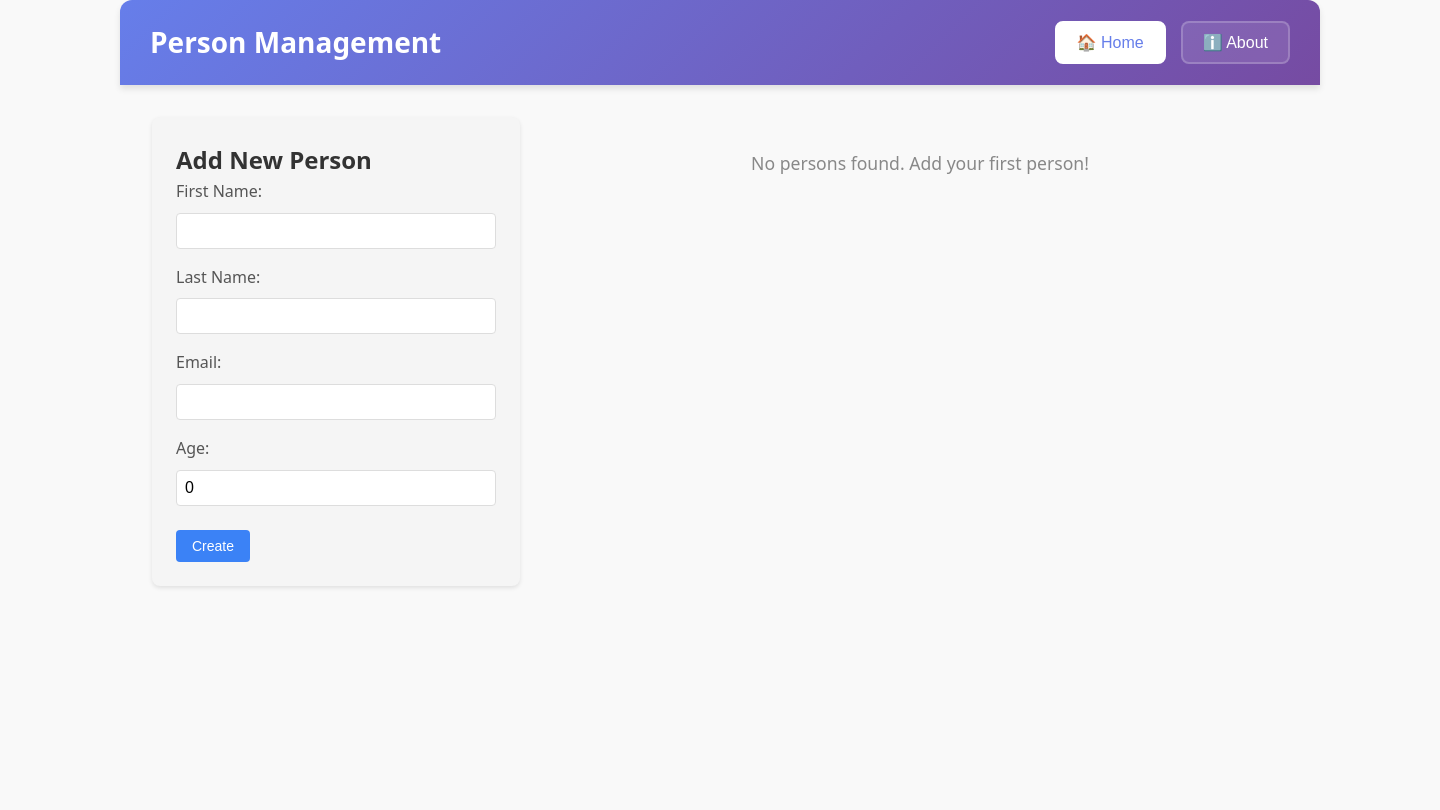
Test case: App › create person › should show error message when creation fails
This screenshot has width=1440, height=810.
Step 1. Type "John" into the field labelled "First Name:" → (336, 231), box [176,213,496,249]
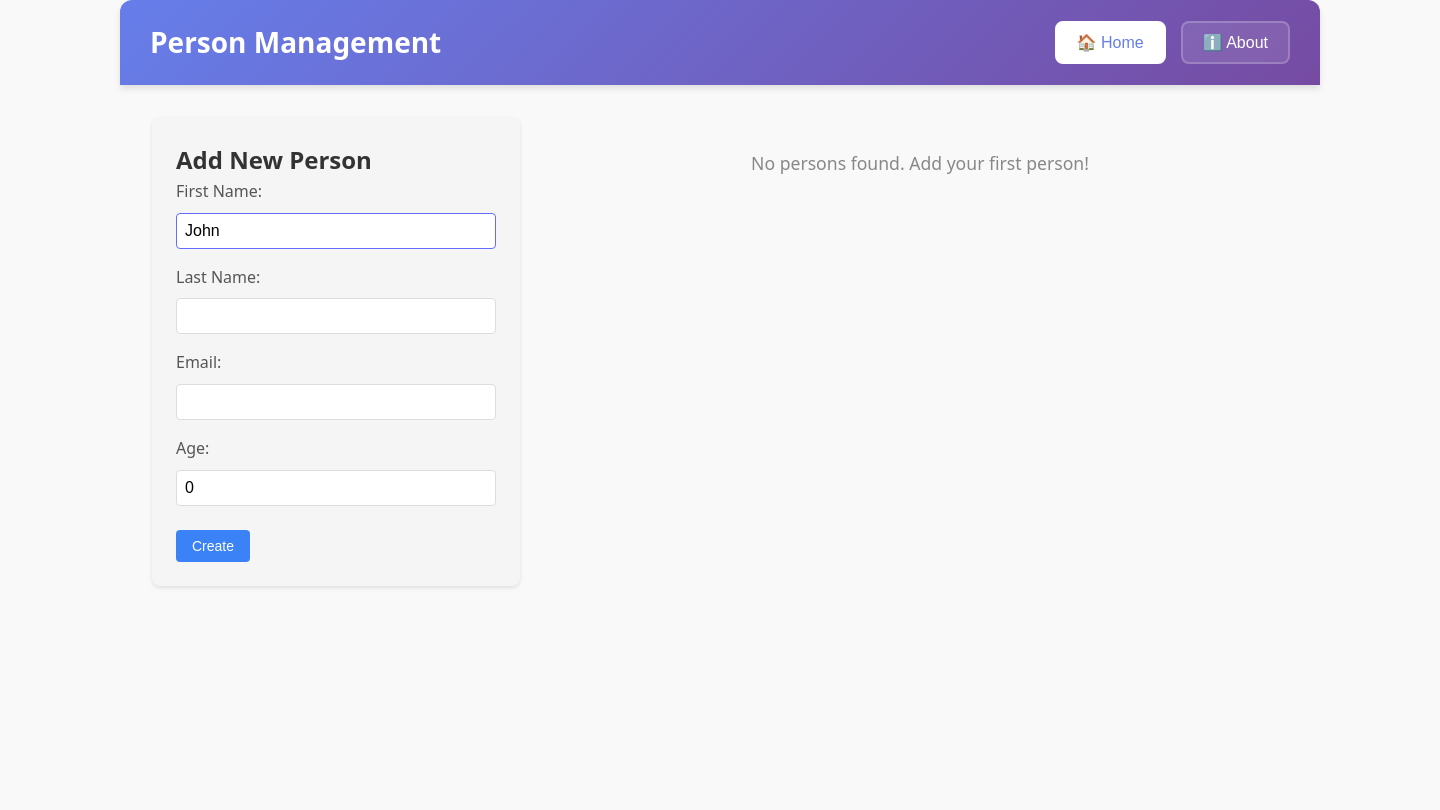
Step 2. Type "Doe" into the field labelled "Last Name:" → (336, 316), box [176,298,496,334]
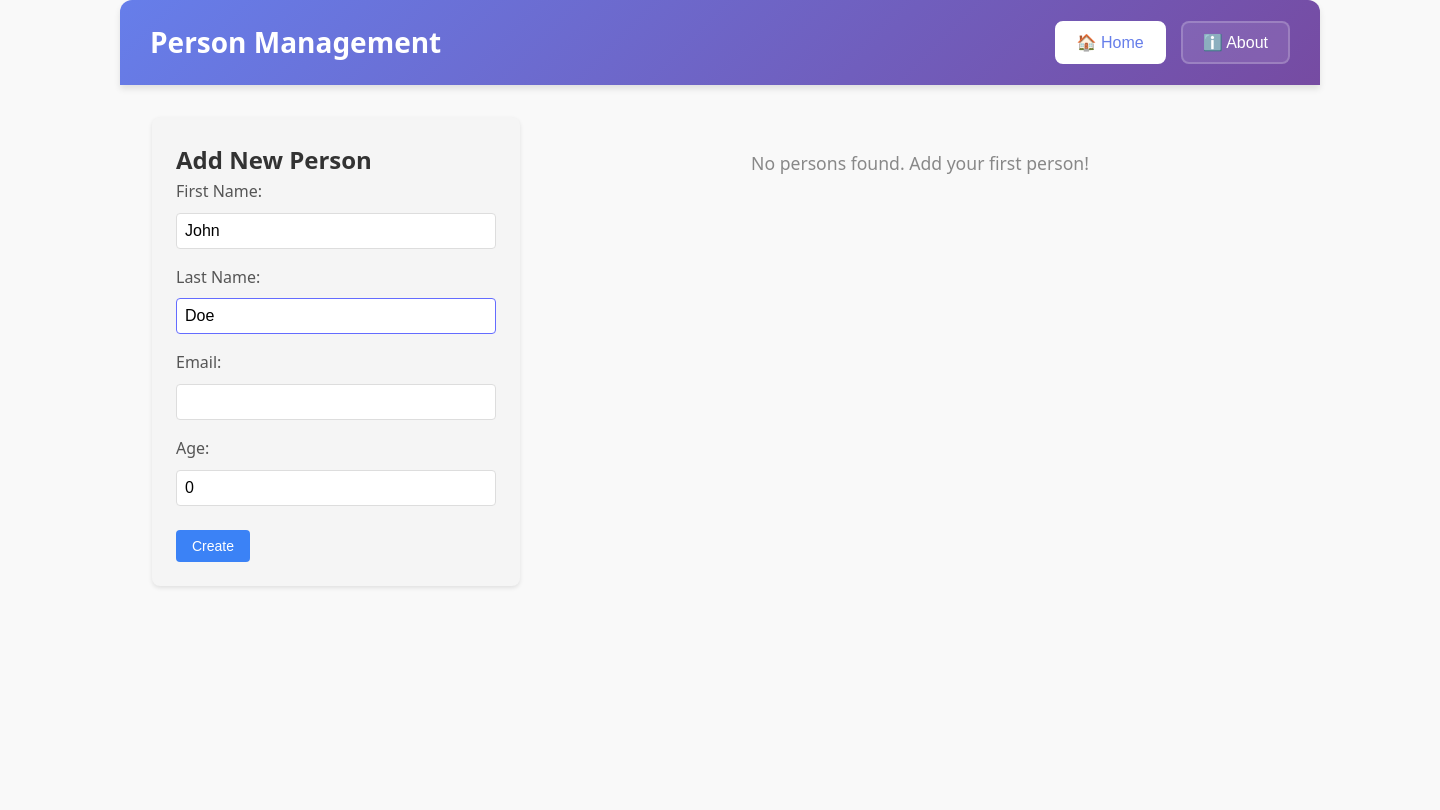
Step 3. Type "john@test.com" into the field labelled "Email:" → (336, 402), box [176,384,496,420]
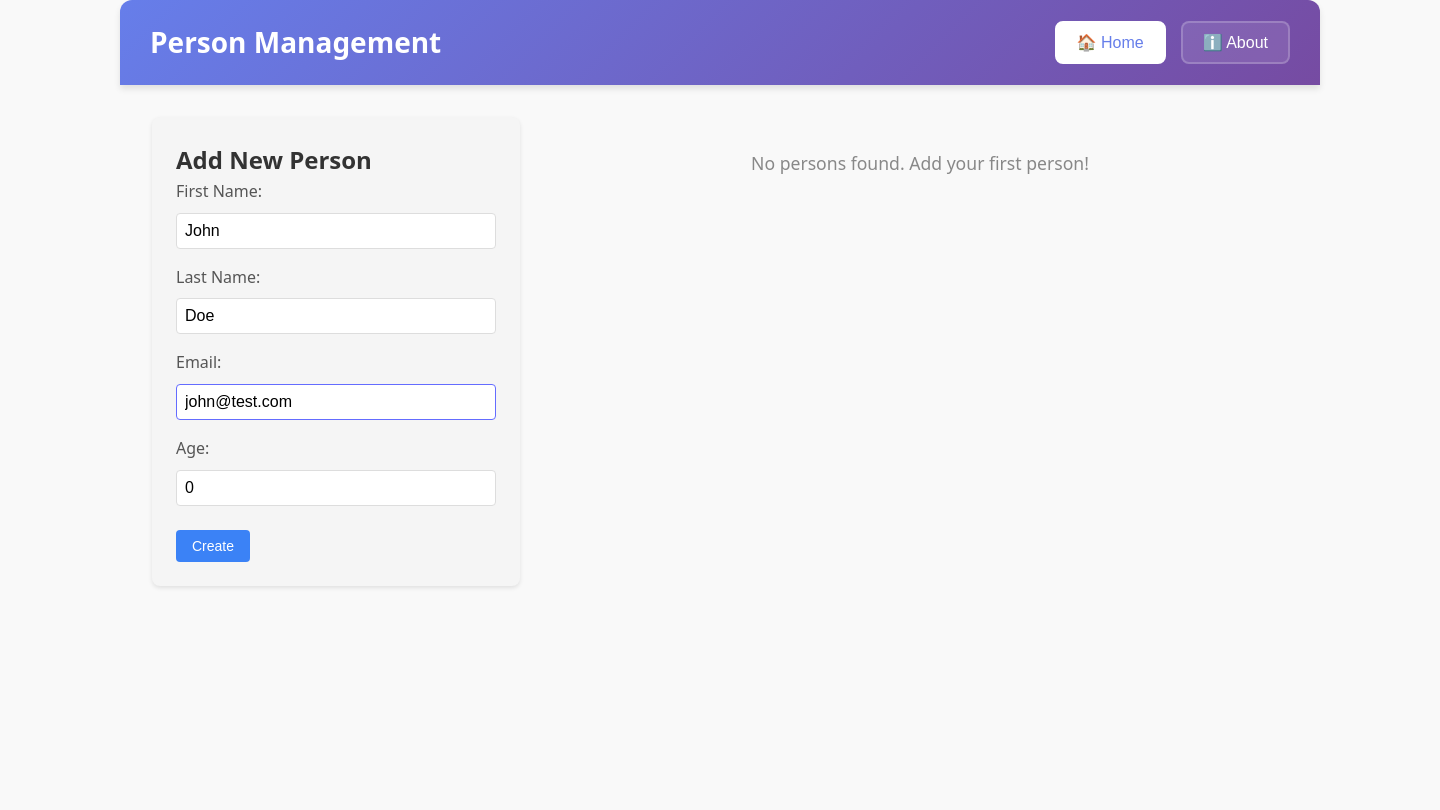
Step 4. Click the button "Create" → click(213, 546), box [176,530,250,562]
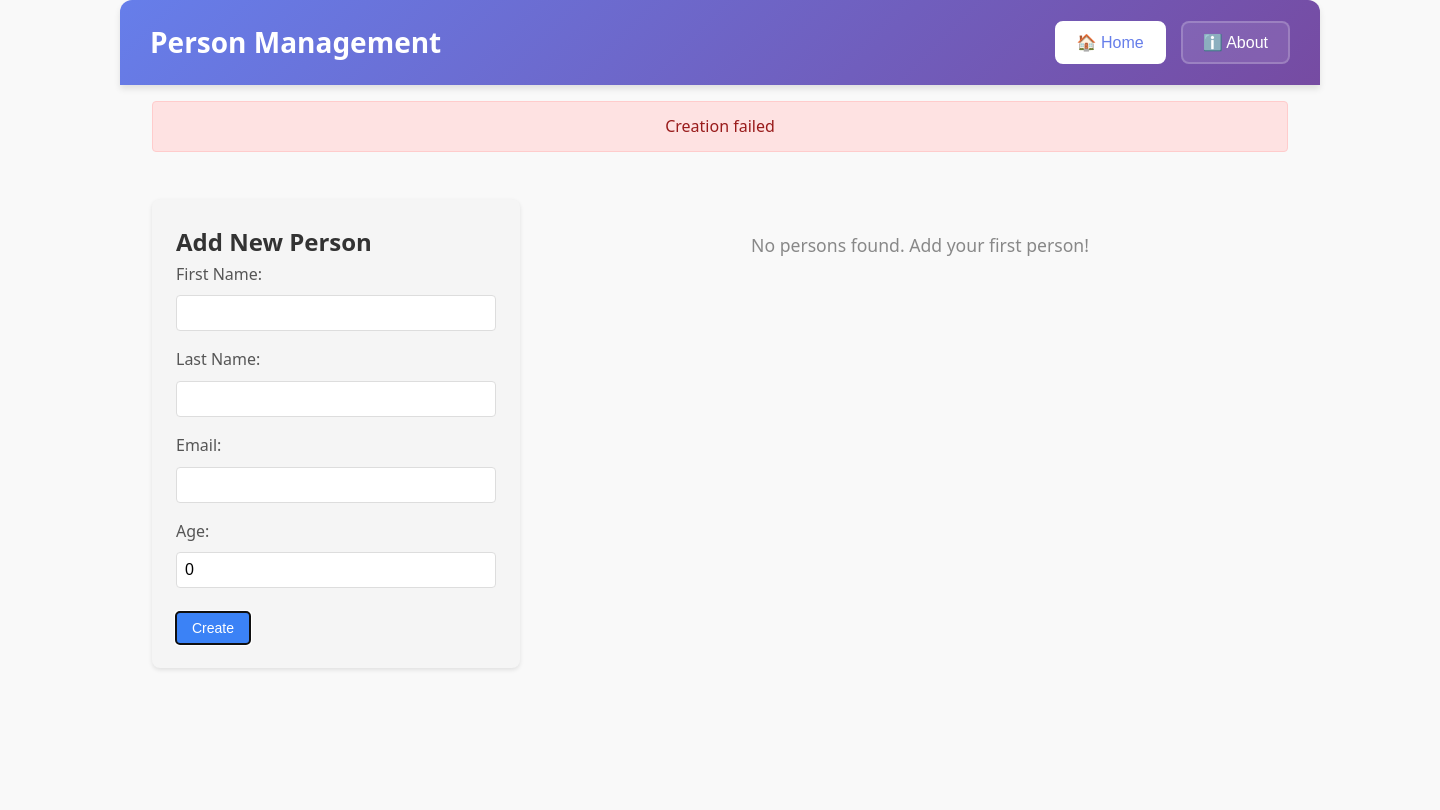
Now the text "Creation failed" is shown, box [152,101,1288,152]
